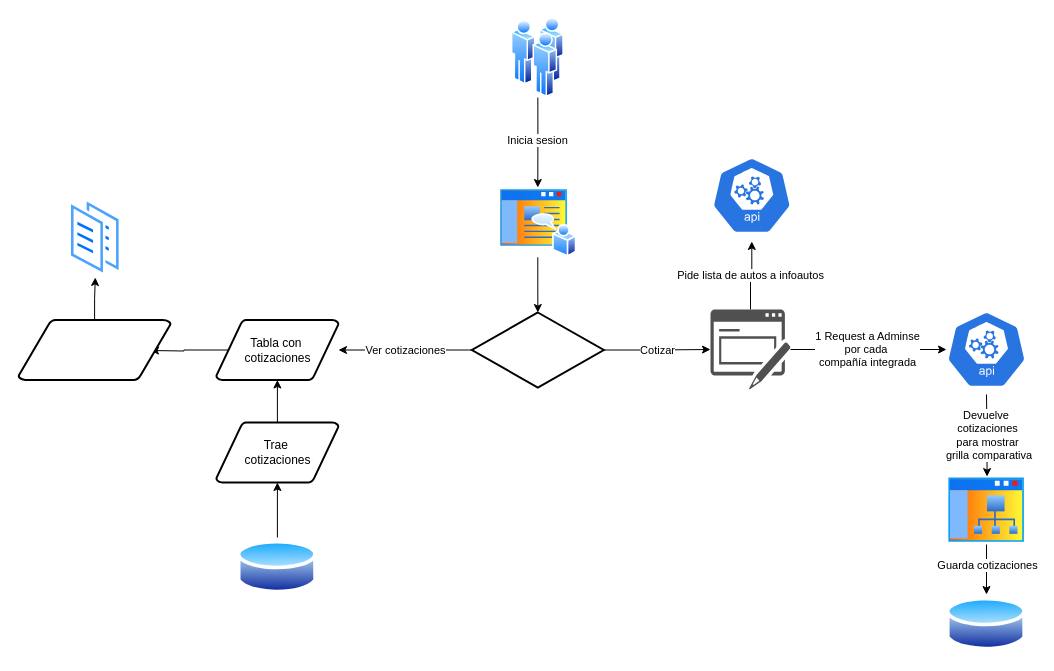
The diagram is 1054 pixels wide and 671 high, and some of its shapes have lost their labels. Each missing label, with the centre of its shape:
Cotizar / ver cotizaciones: point (537, 349)
Imprimir / obtener cotizacion antigua: point (94, 349)
